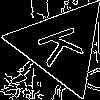K: (36, 20, 94, 69)
